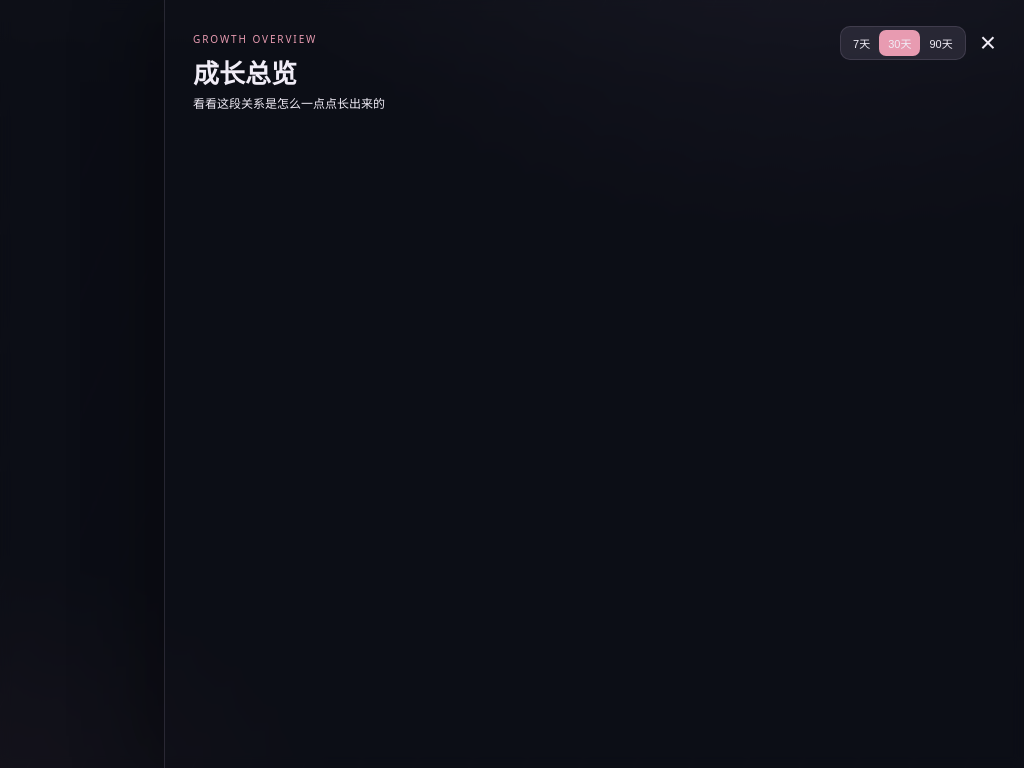
DashboardPanel › reloads when switching to seven days
Click the button "7天": click(862, 43) [844, 30, 879, 56]
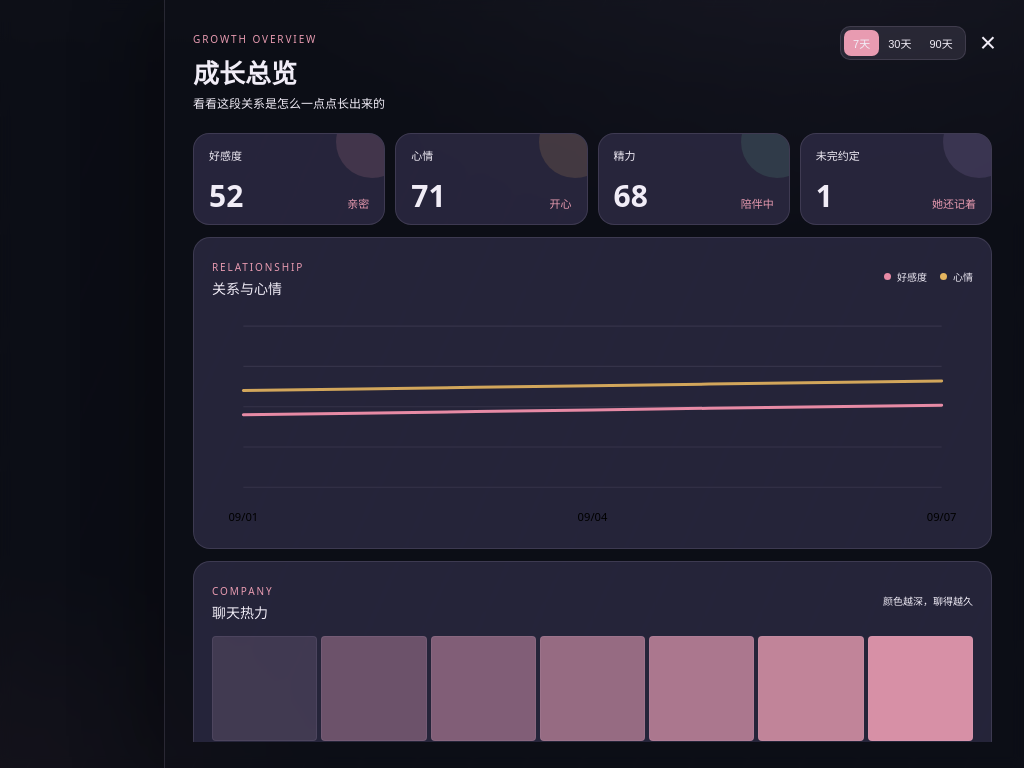
Expected: the number of elements with class "heat-cell" is 7
